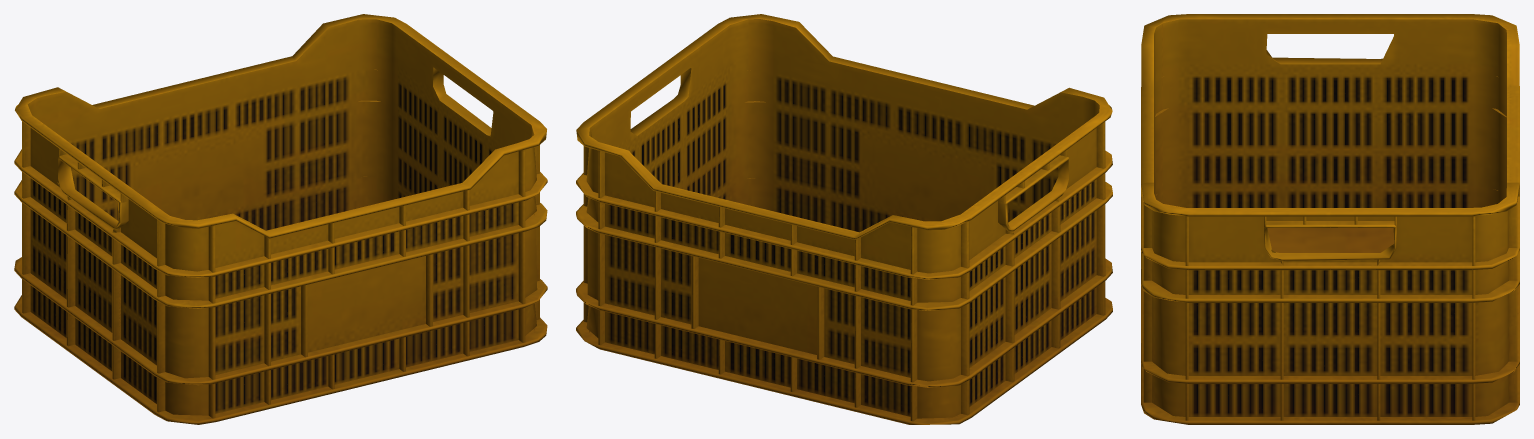
Rendered from plastic_crate_02.lod1.glb.
The picture shows the model from 3 angles, left to right: view 1: azimuth 30°, elevation 25°; view 2: azimuth 150°, elevation 25°; view 3: azimuth 270°, elevation 25°; orthographic projection. The views are drawn at different scales.
Visible parts, largest first — view 1: plastic_crate_02; view 2: plastic_crate_02; view 3: plastic_crate_02.
Boxes of the visible parts, x1,y1,x2,y2 form: plastic_crate_02: (14, 14, 547, 424); plastic_crate_02: (576, 14, 1112, 424); plastic_crate_02: (1141, 14, 1519, 424).
Bounding box in the file's own units: 0.5055 × 0.2541 × 0.4055.
1 material, 1 textured.
